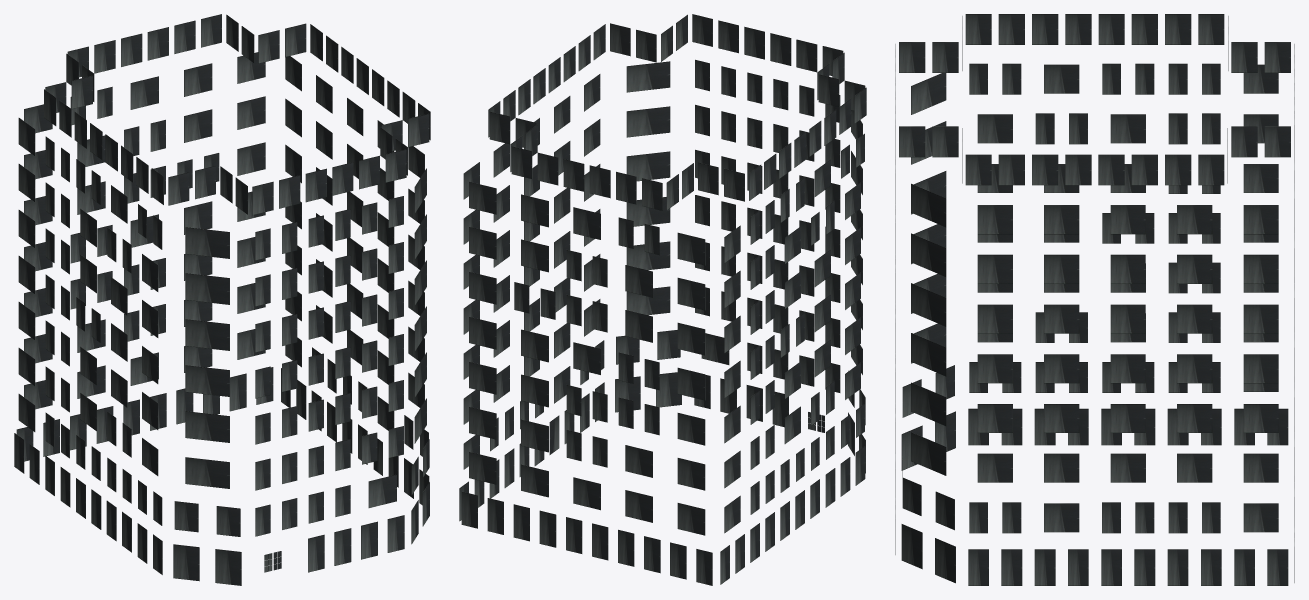
File: TRANS_Building_9stores_House.obj
3 renders of one model, left to right at view 1: azimuth 30°, elevation 25°; view 2: azimuth 150°, elevation 25°; view 3: azimuth 270°, elevation 25°, orthographic. The views are drawn at different scales.
Visible parts, largest first — view 1: TRANS_Building_9stores_House; view 2: TRANS_Building_9stores_House; view 3: TRANS_Building_9stores_House.
Part boxes in pixels (<box>): TRANS_Building_9stores_House: <box>14,14,430,585</box>; TRANS_Building_9stores_House: <box>459,14,866,585</box>; TRANS_Building_9stores_House: <box>895,14,1294,585</box>.
Bounding box in the file's own units: 6.57 × 9.39 × 7.88.
